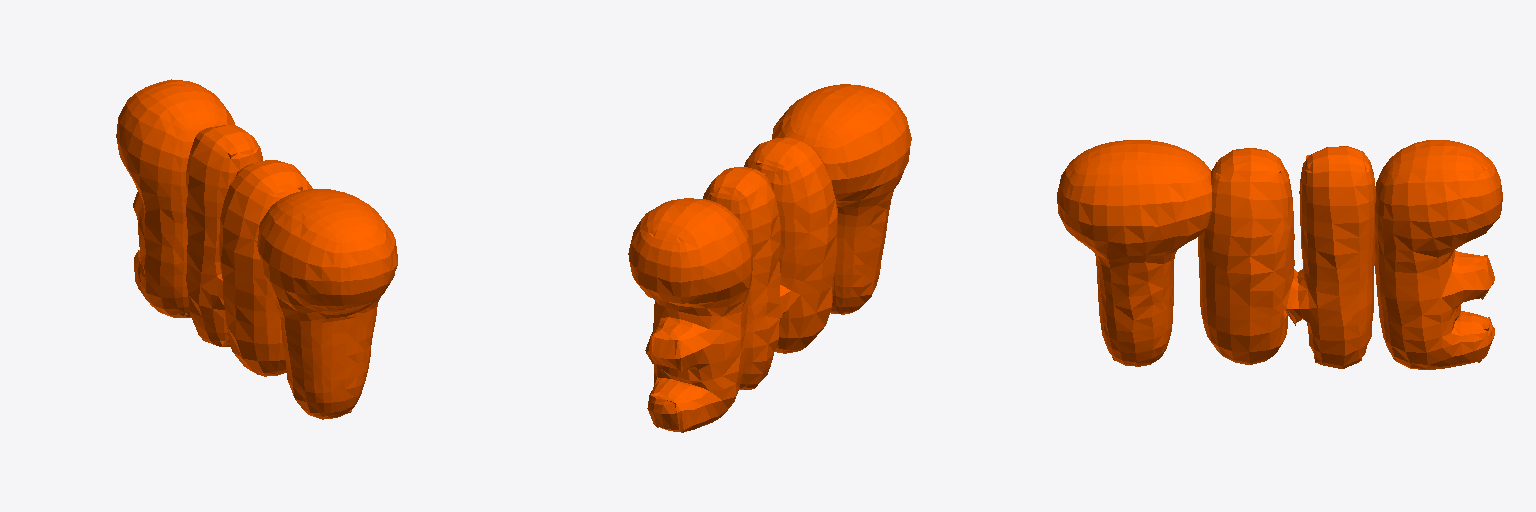
File: 11_the.obj
3 views of the same model, side by side, from view 1: azimuth 30°, elevation 25°; view 2: azimuth 150°, elevation 25°; view 3: azimuth 270°, elevation 25° (orthographic).
Visible parts, largest first — view 1: _the:the; view 2: _the:the; view 3: _the:the.
Boxes of the visible parts, <box> form: _the:the: <box>116,79,397,419</box>; _the:the: <box>628,84,911,432</box>; _the:the: <box>1057,140,1502,369</box>.
Size of the model in its own units: 0.1409 by 0.2533 by 0.466.